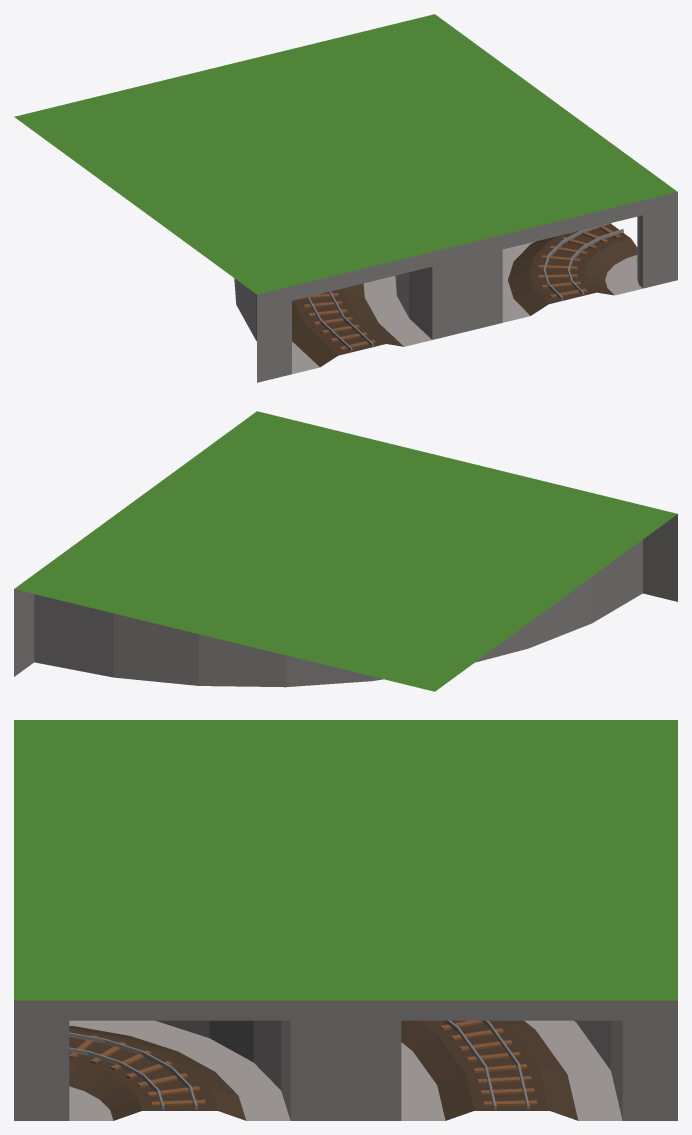
The model's file is tiles-nb_tile-rail-tunnel-curve-double-nb.fbx.
The picture shows the model from 3 angles, top to bottom: view 1: azimuth 30°, elevation 25°; view 2: azimuth 150°, elevation 25°; view 3: azimuth 270°, elevation 25°; orthographic projection. The views are drawn at different scales.
Visible parts, largest first — view 1: tiles_nb_tile_rail_tunnel_curve_double_nb; view 2: tiles_nb_tile_rail_tunnel_curve_double_nb; view 3: tiles_nb_tile_rail_tunnel_curve_double_nb.
Part boxes in pixels (bbox=[...]): tiles_nb_tile_rail_tunnel_curve_double_nb: bbox=[14, 14, 677, 382]; tiles_nb_tile_rail_tunnel_curve_double_nb: bbox=[14, 411, 677, 691]; tiles_nb_tile_rail_tunnel_curve_double_nb: bbox=[14, 720, 677, 1120].
Size of the model in its own units: 200 by 40 by 200.
